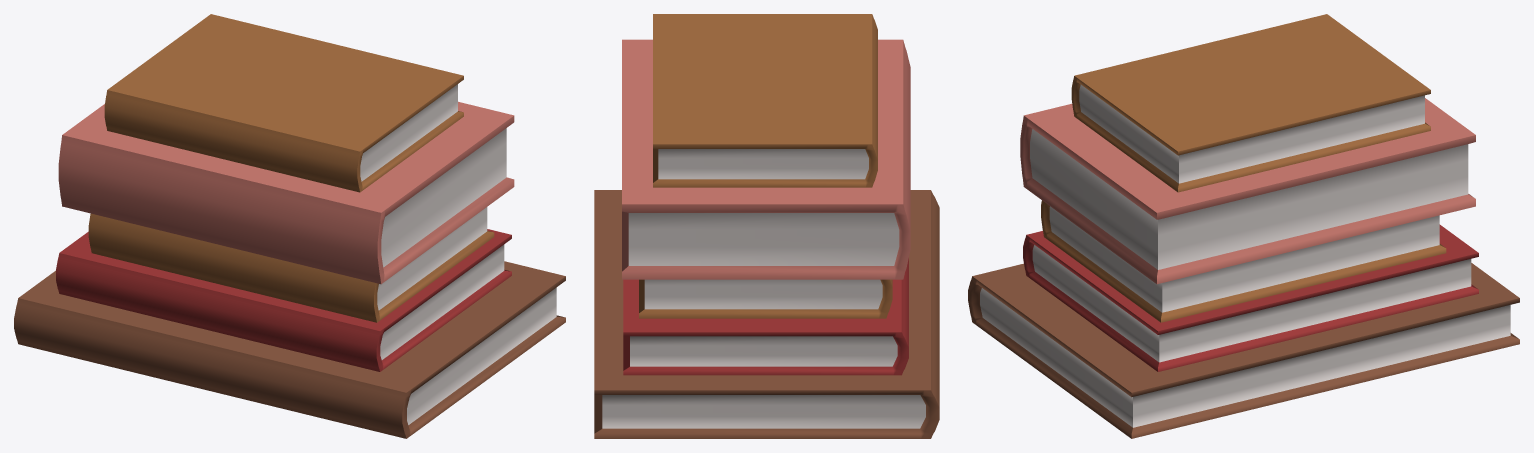
Rendered from Mesh_Book_05.fbx.
3 views of the same model, side by side, from view 1: azimuth 30°, elevation 25°; view 2: azimuth 150°, elevation 25°; view 3: azimuth 270°, elevation 25° (orthographic). The views are drawn at different scales.
Parts seen in each view (by area): view 1: Book13, Book17, Book15, Book14, Book16; view 2: Book17, Book13, Book15, Book14, Book16; view 3: Book13, Book17, Book15, Book14, Book16.
Part boxes in pixels (x1,y1,x2,y2): Book13: (58, 101, 514, 284); Book17: (104, 14, 463, 192); Book15: (14, 261, 565, 438); Book14: (56, 229, 511, 371); Book16: (88, 207, 494, 322); Book17: (653, 14, 877, 187); Book13: (622, 39, 910, 279); Book15: (594, 190, 939, 438); Book14: (623, 258, 908, 375); Book16: (639, 279, 892, 318); Book13: (1020, 98, 1475, 284); Book17: (1071, 14, 1430, 192); Book15: (968, 263, 1519, 438); Book14: (1023, 224, 1478, 371); Book16: (1041, 200, 1446, 322).
Size of the model in its own units: 48.05 by 26.01 by 52.26.
